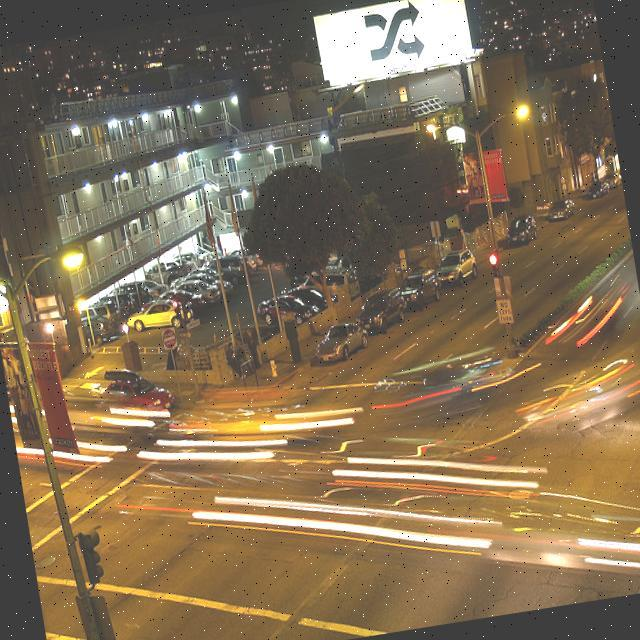fire_hydrant: (268, 358, 278, 378)
